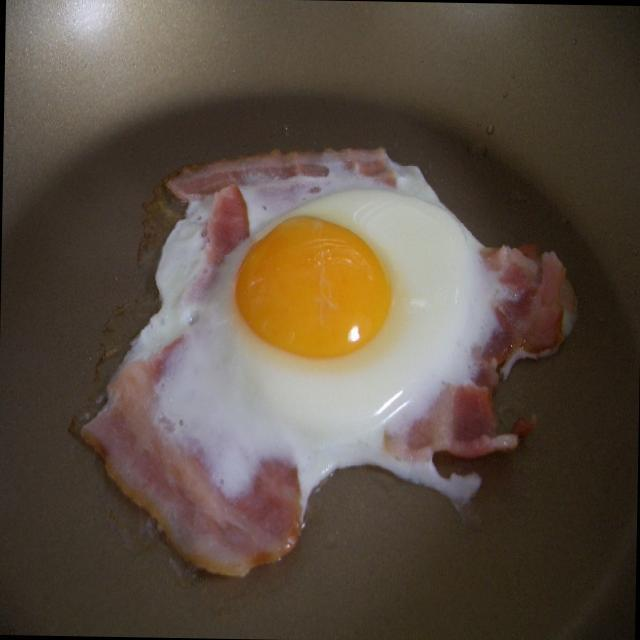Egg: (187, 178, 489, 461)
